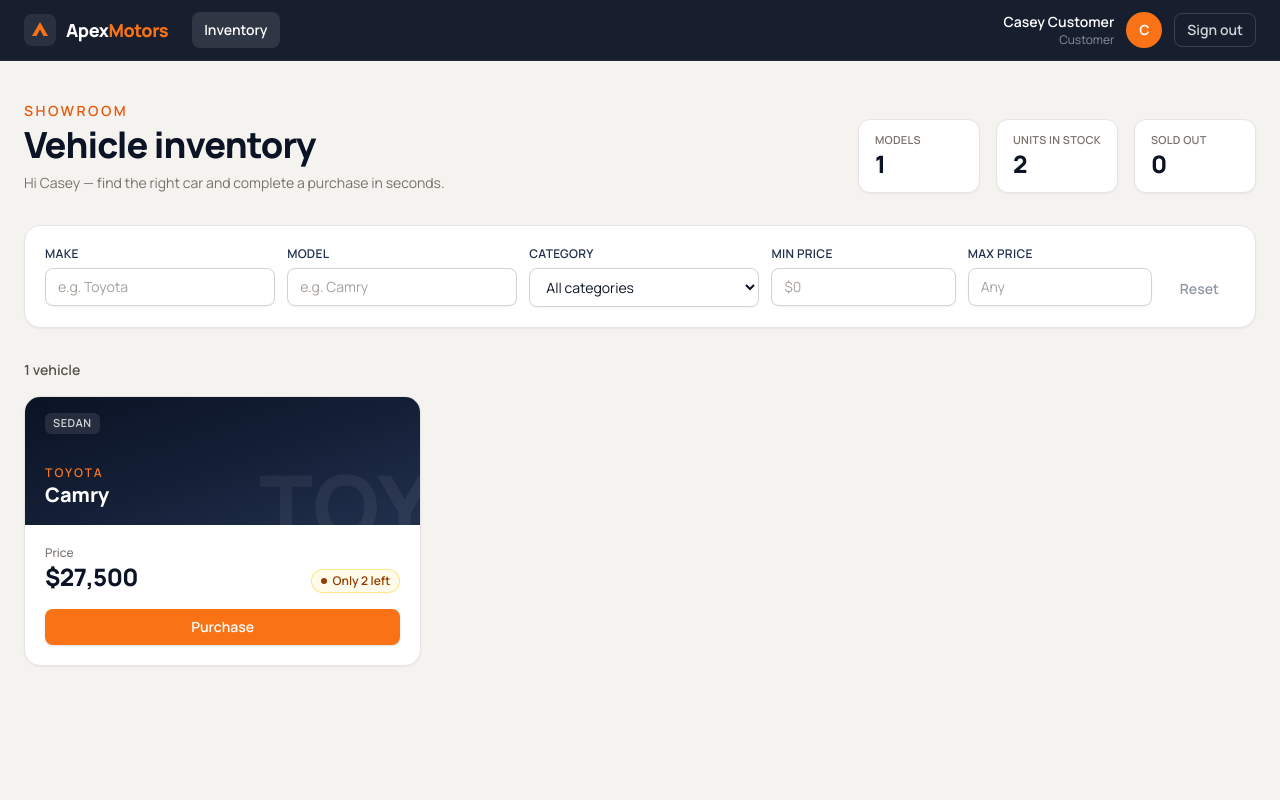
Test: Inventory page › shows the API error when stock ran out meanwhile, and reloads
The width and height of the screenshot is (1280, 800).
What coordinates should you click on to do the following:
click the button with aria-label "Purchase Toyota Camry"
I would click on:
 (223, 627)
Its box is [45,609,400,645].
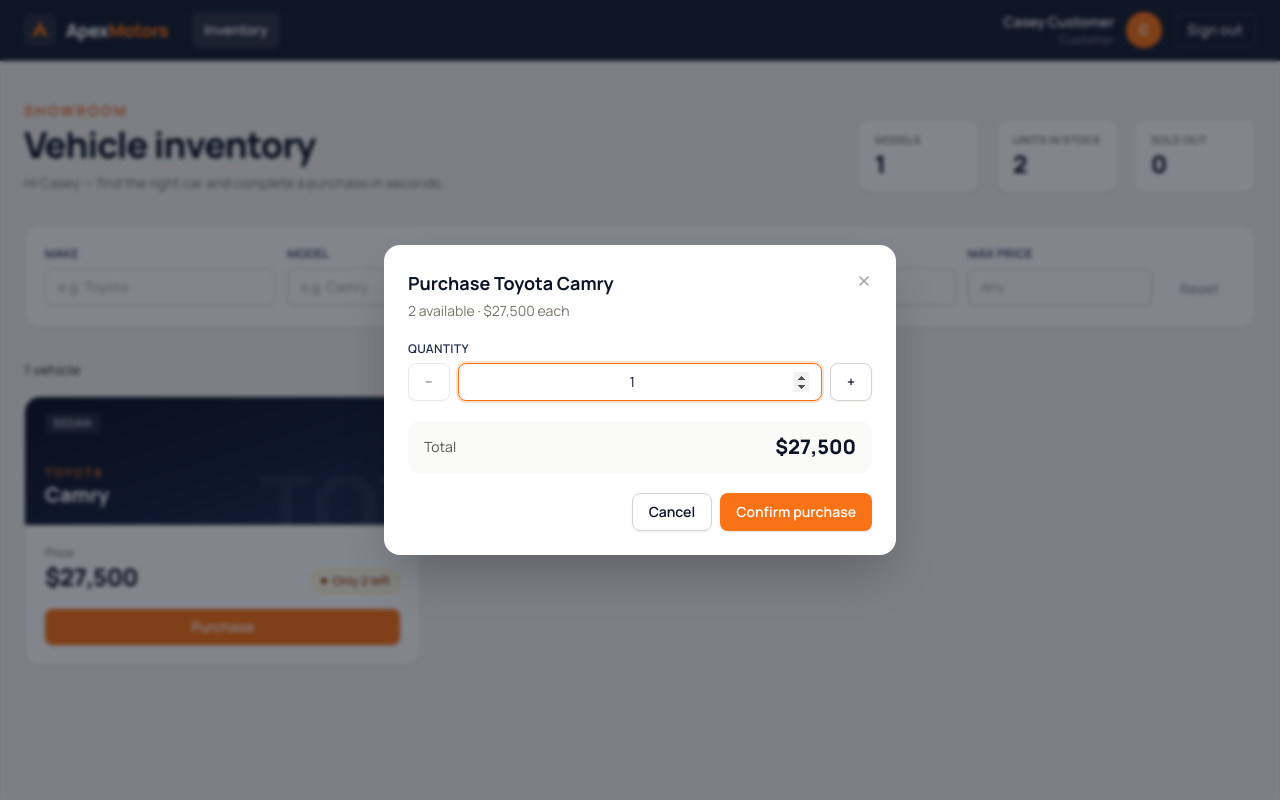
What coordinates should you click on to do the following:
click the button "Confirm purchase"
I would click on:
 (796, 512)
Its box is [720,493,872,531].
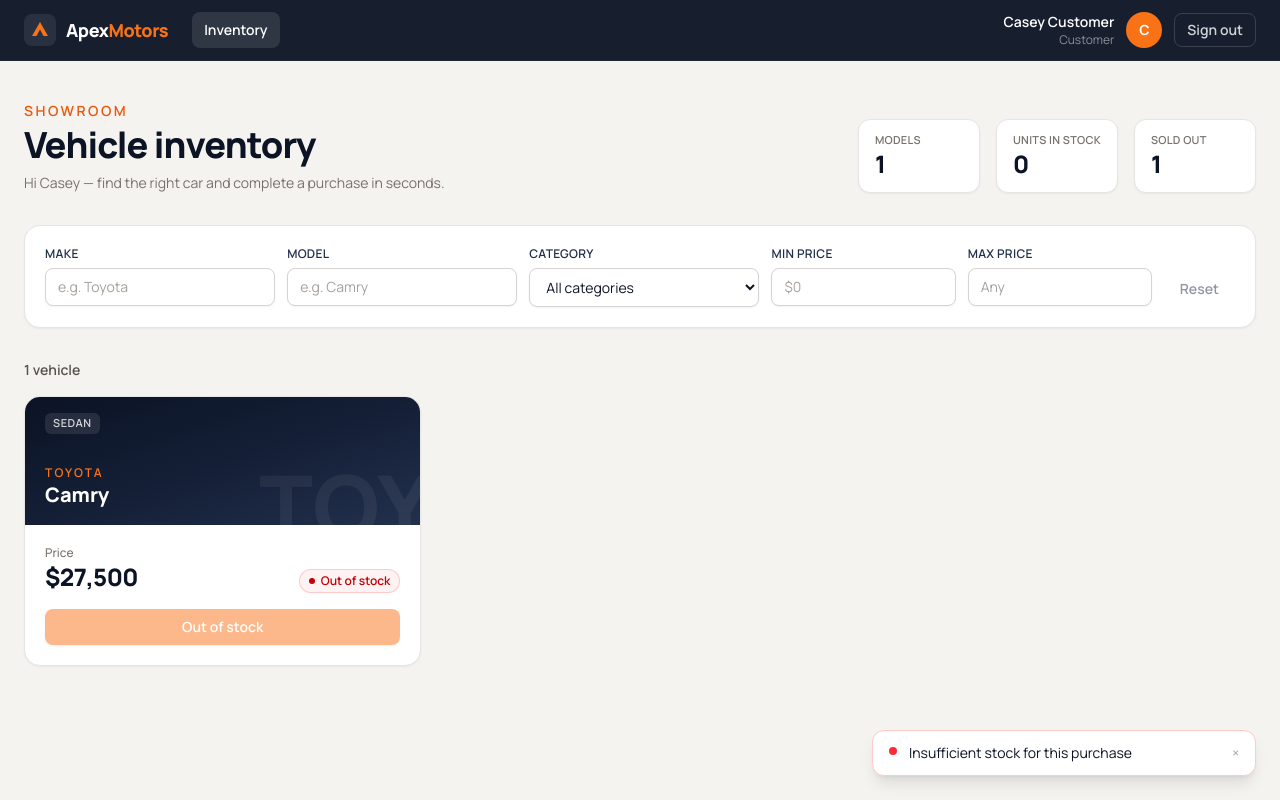
Result: the text "Insufficient stock for this purchase" is shown at [909,743,1132,762]
Result: the button "Out of stock" is disabled at [45,609,400,645]
